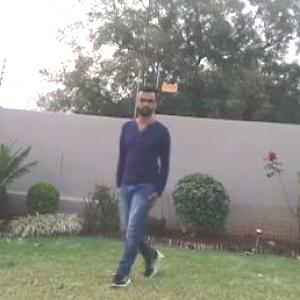follow: (117, 85, 185, 280)
